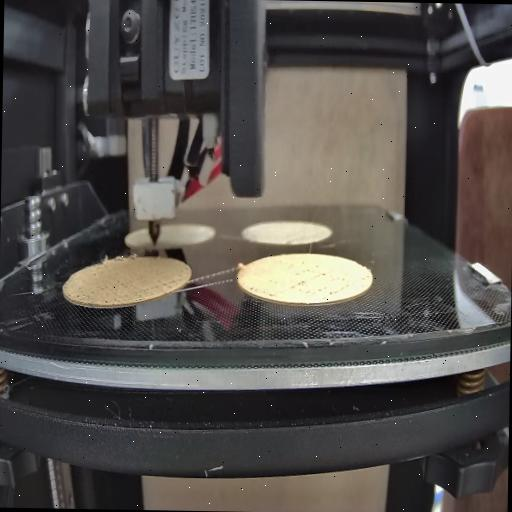under_extrusion: (289, 260, 359, 298), (70, 273, 130, 307), (144, 273, 180, 293), (248, 280, 277, 302)
